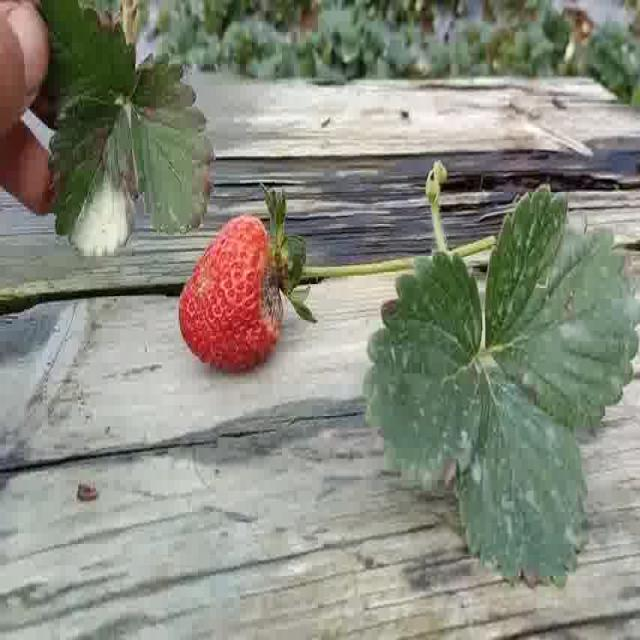Mancha negra Antracnosis: (176, 212, 292, 374)
